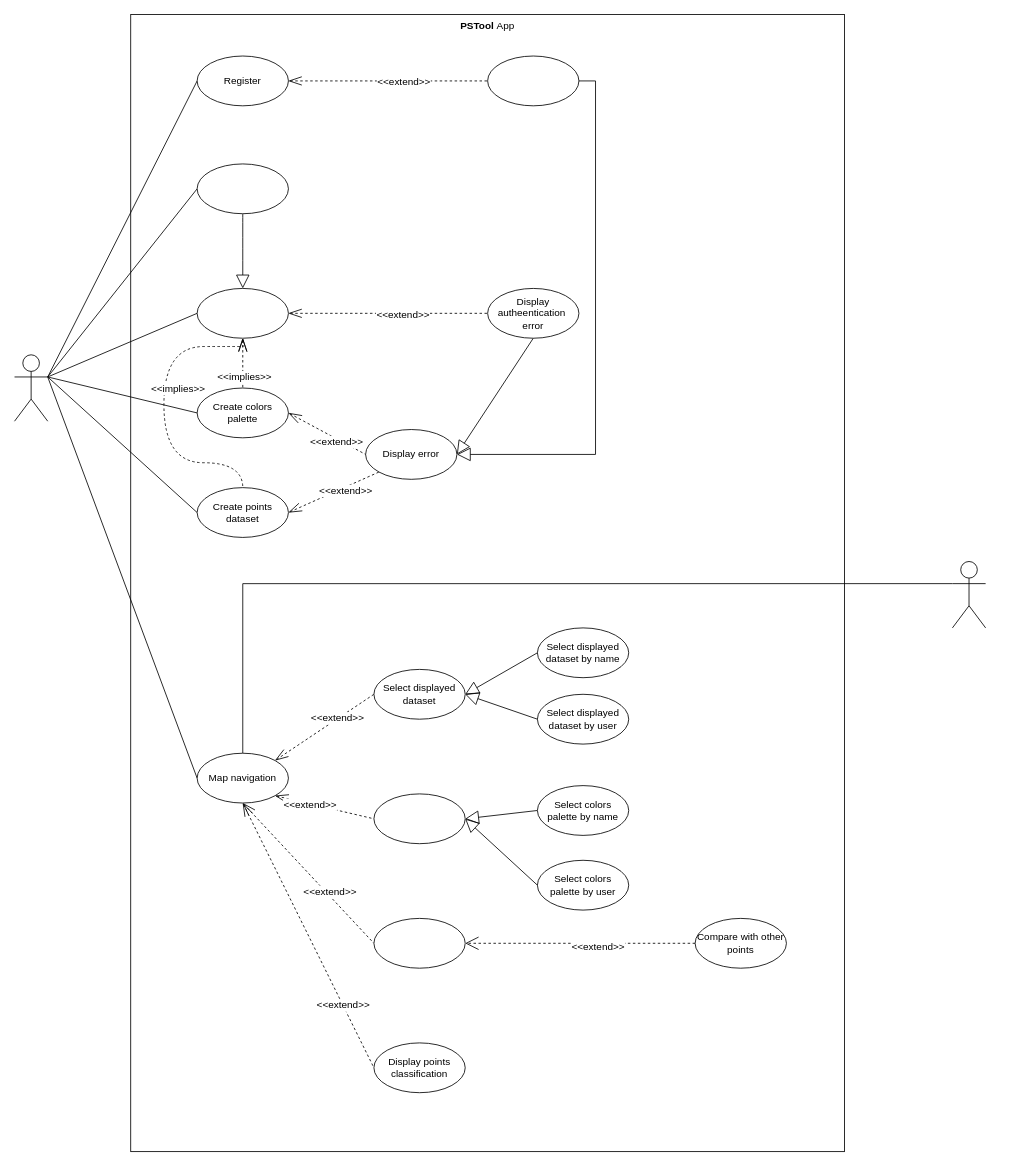
Some shapes in this 1009 by 1166 pixel diagram are drawn without their labels. Each missing label, with the centre of its shape:
Authenticate: the point at 242,313
Authenticate without account: the point at 242,188
Display point details: the point at 419,943
Display register error: the point at 533,80
Openstreet Map Server: the point at 969,594
Select colors palette: the point at 419,818
User: the point at 31,387
